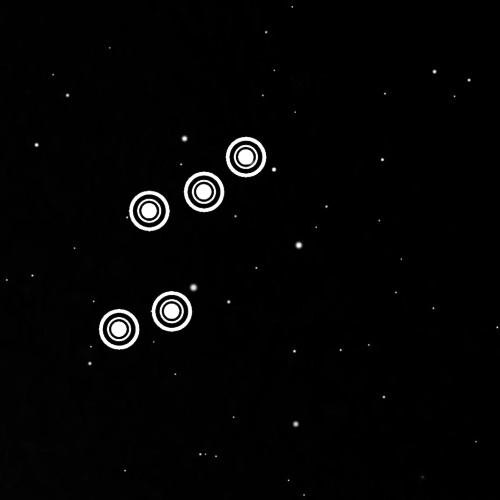lyra: (81, 123, 279, 362)
